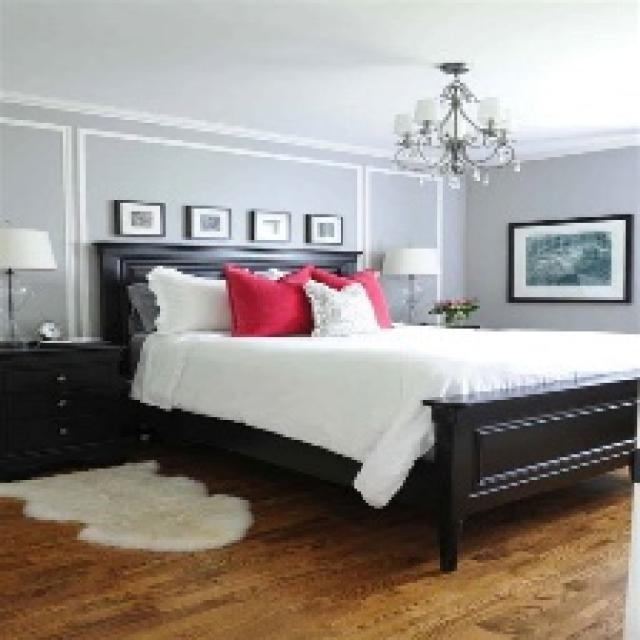Bed: (89, 237, 637, 569)
